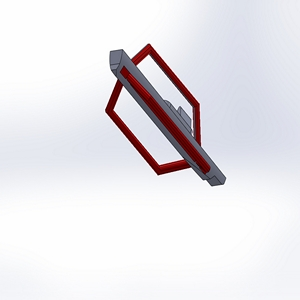submarine: (86, 40, 237, 197)
